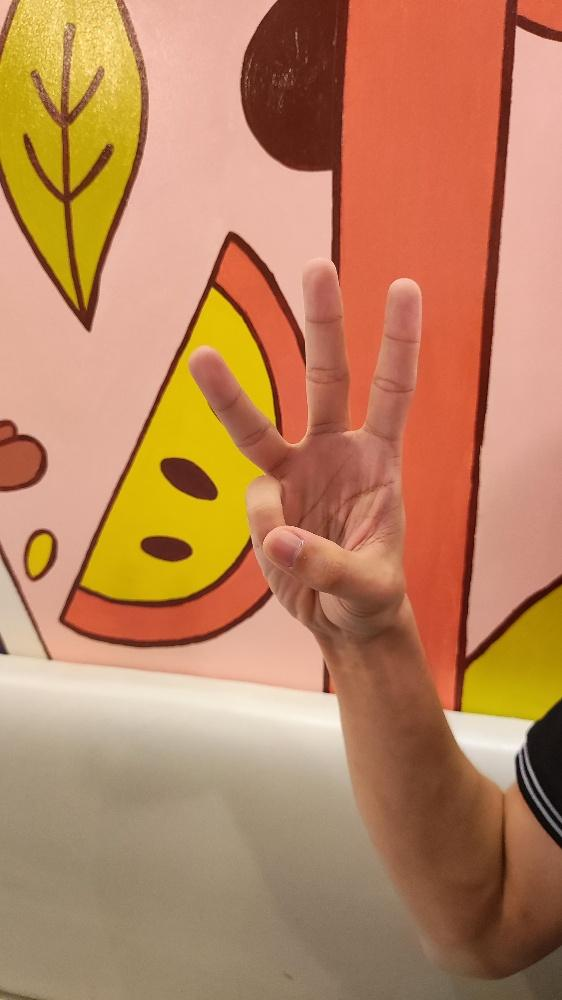w: (185, 253, 424, 632)
